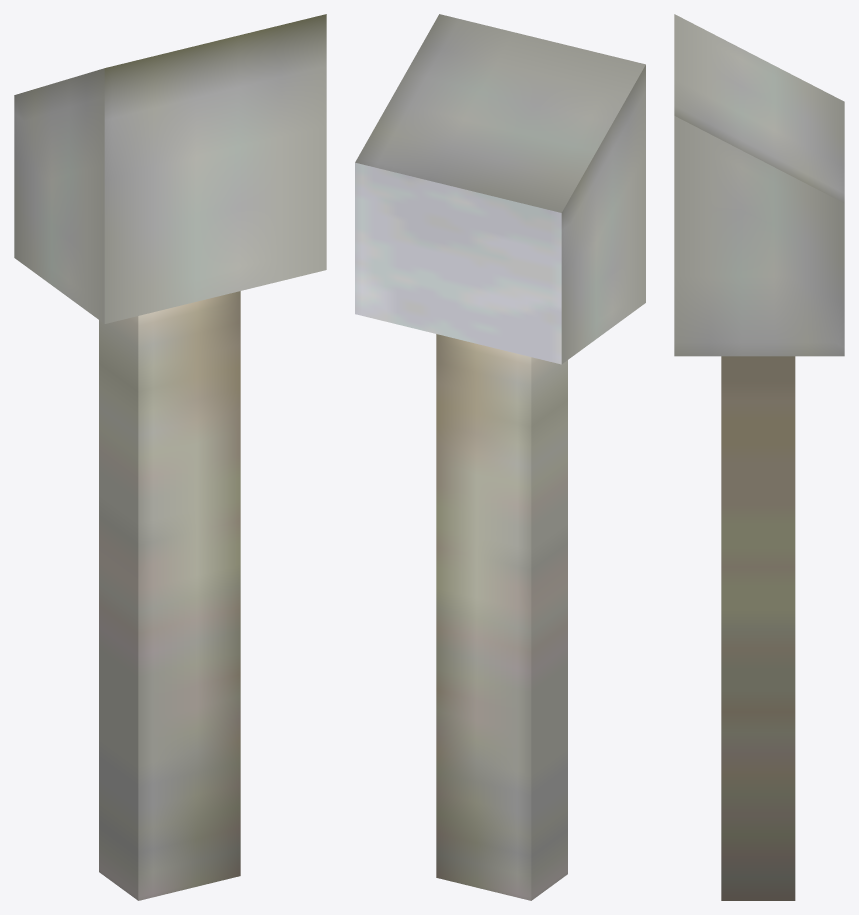
File: EntryPanel02.glb
3 views of the same model, side by side, from view 1: azimuth 30°, elevation 25°; view 2: azimuth 150°, elevation 25°; view 3: azimuth 270°, elevation 25° (orthographic). The views are drawn at different scales.
Parts seen in each view (by area): view 1: EntryPanel02; view 2: EntryPanel02; view 3: EntryPanel02.
Boxes of the visible parts, x1,y1,x2,y2 form: EntryPanel02: (14,14,326,900); EntryPanel02: (355,14,645,900); EntryPanel02: (674,14,844,900).
Bounding box in the file's own units: 34.77 × 130 × 24.57.
Materials: 1 (1 with a texture image).
